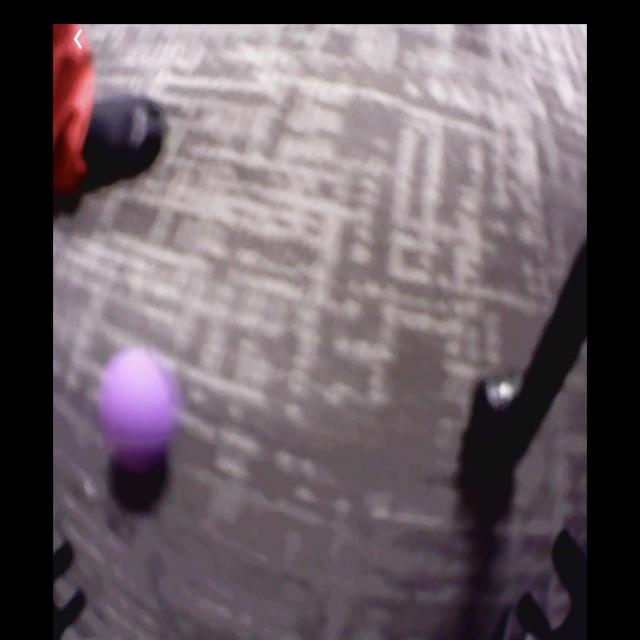ball: (99, 348, 177, 464)
